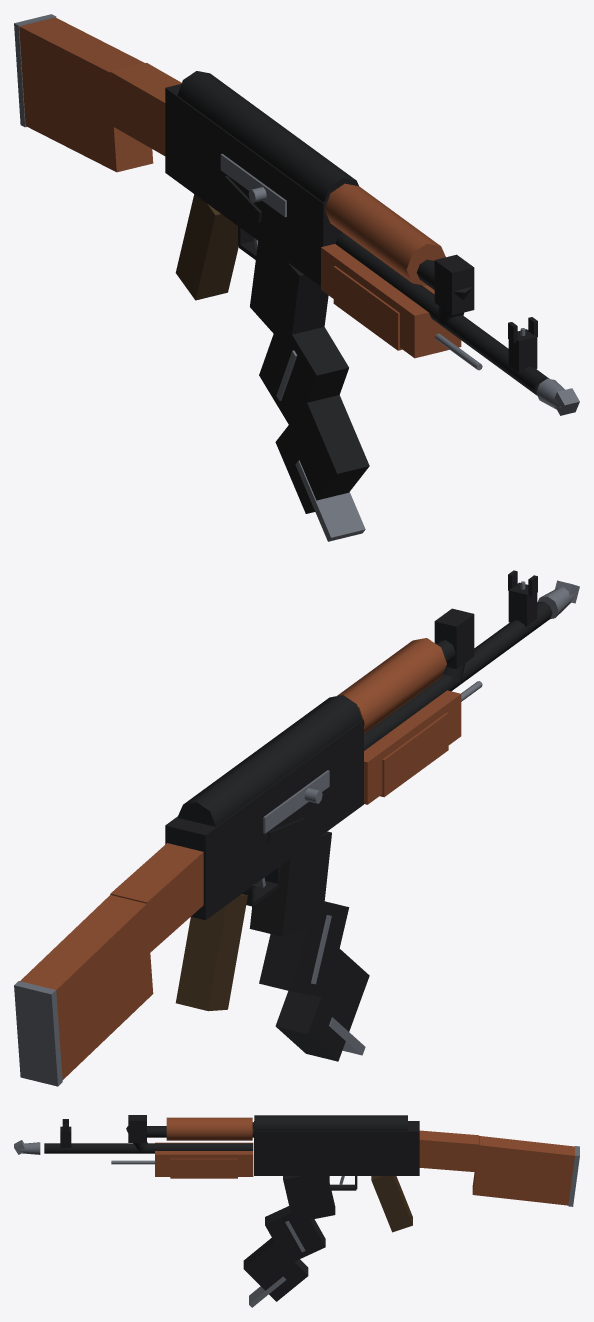
3 views of the same model, one above another, from view 1: azimuth 30°, elevation 25°; view 2: azimuth 150°, elevation 25°; view 3: azimuth 270°, elevation 25° (orthographic). The views are drawn at different scales.
Visible parts, largest first — view 1: Mesh_StockBody, Mesh_Receiver, Mesh_DustCover, Mesh_MagSeg3, Mesh_UpperHandguard, Mesh_MagSeg2, Mesh_MagSeg1, Mesh_PistolGrip, Mesh_LowerHandguard, Mesh_StockWrist, Mesh_Barrel, Mesh_LowerHandguardSwell (+5 smaller); view 2: Mesh_Receiver, Mesh_StockBody, Mesh_DustCover, Mesh_StockWrist, Mesh_PistolGrip, Mesh_MagSeg2, Mesh_MagSeg3, Mesh_UpperHandguard, Mesh_MagSeg1, Mesh_Buttplate, Mesh_Barrel, Mesh_LowerHandguard (+4 smaller); view 3: Mesh_Receiver, Mesh_StockBody, Mesh_DustCover, Mesh_StockWrist, Mesh_MagSeg3, Mesh_UpperHandguard, Mesh_MagSeg2, Mesh_MagSeg1, Mesh_Barrel, Mesh_LowerHandguard, Mesh_PistolGrip, Mesh_LowerHandguardSwell (+3 smaller).
Part boxes in pixels (box(x1,y1,x2,y2)): Mesh_StockBody: box(19, 17, 153, 172); Mesh_Receiver: box(165, 84, 342, 286); Mesh_DustCover: box(177, 71, 358, 202); Mesh_MagSeg3: box(275, 395, 369, 513); Mesh_UpperHandguard: box(324, 183, 445, 285); Mesh_MagSeg2: box(259, 327, 348, 424); Mesh_MagSeg1: box(250, 241, 328, 351); Mesh_PistolGrip: box(175, 194, 238, 300); Mesh_LowerHandguard: box(321, 244, 461, 358); Mesh_StockWrist: box(110, 63, 181, 155); Mesh_Barrel: box(335, 233, 549, 395); Mesh_LowerHandguardSwell: box(333, 266, 402, 350); Mesh_Receiver: box(165, 719, 363, 920); Mesh_StockBody: box(20, 895, 153, 1079); Mesh_DustCover: box(177, 695, 362, 826); Mesh_StockWrist: box(110, 843, 203, 953); Mesh_PistolGrip: box(175, 894, 247, 1011); Mesh_MagSeg2: box(259, 900, 349, 998); Mesh_MagSeg3: box(275, 949, 369, 1061); Mesh_UpperHandguard: box(337, 638, 446, 733); Mesh_MagSeg1: box(249, 831, 331, 936); Mesh_Buttplate: box(14, 981, 62, 1086); Mesh_Barrel: box(364, 601, 552, 750); Mesh_LowerHandguard: box(364, 690, 461, 804); Mesh_Receiver: box(254, 1121, 419, 1175); Mesh_StockBody: box(472, 1136, 574, 1205); Mesh_DustCover: box(254, 1115, 407, 1131); Mesh_StockWrist: box(419, 1130, 479, 1172); Mesh_MagSeg3: box(243, 1238, 308, 1301); Mesh_UpperHandguard: box(166, 1117, 252, 1140); Mesh_MagSeg2: box(265, 1206, 325, 1264); Mesh_MagSeg1: box(283, 1176, 335, 1222); Mesh_Barrel: box(44, 1143, 253, 1153); Mesh_LowerHandguard: box(155, 1142, 253, 1176); Mesh_PistolGrip: box(371, 1176, 412, 1232); Mesh_LowerHandguardSwell: box(170, 1158, 237, 1178).
Size of the model in its own units: 0.058 by 0.3371 by 0.9208.
